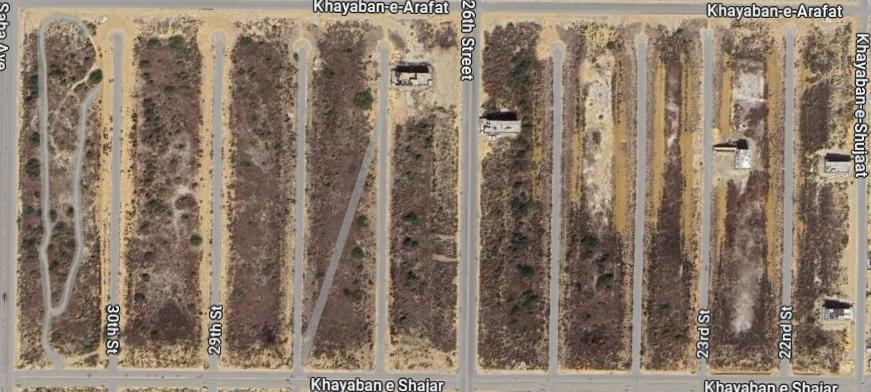Buildings: (16, 8, 109, 368), (118, 11, 210, 369), (560, 15, 636, 371), (221, 11, 296, 369), (386, 11, 461, 368), (709, 16, 783, 373), (305, 12, 378, 372), (477, 13, 550, 371), (790, 13, 856, 373), (640, 14, 699, 370)
